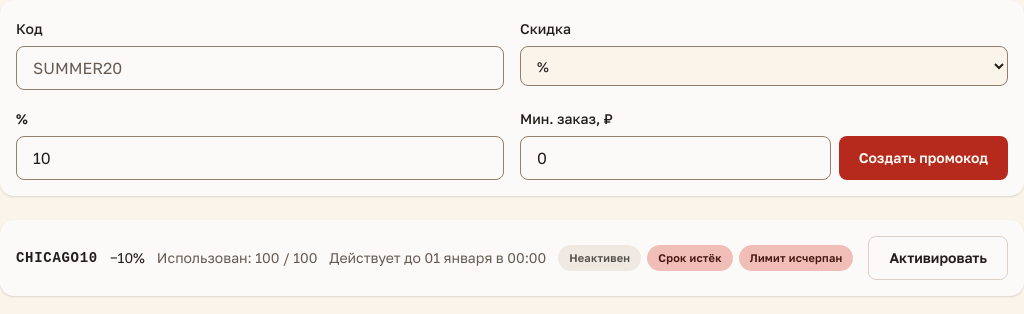
it: promocode activation › keeps expiry and usage-limit restrictions visible after reactivation
The width and height of the screenshot is (1024, 314).
Click the button with aria-label "Активировать промокод CHICAGO10" at point(938, 258), box [868,236,1008,280]
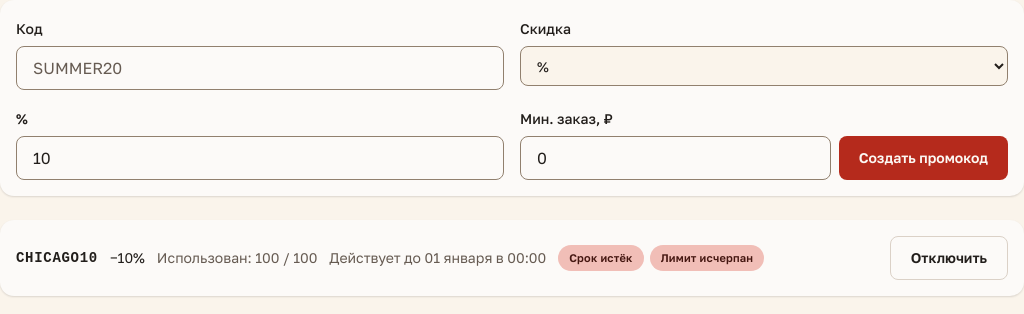
Expected: the text "Срок истёк" is shown, [558,245,644,271]
Expected: the text "активен" is gone
